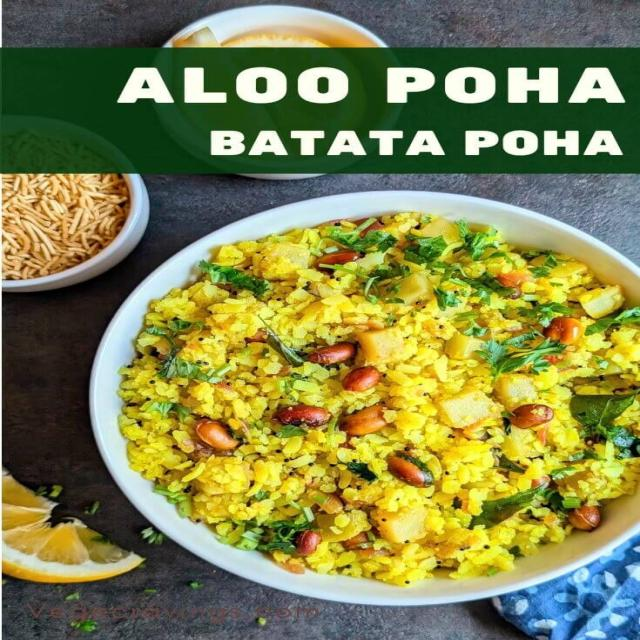POHA: (116, 212, 638, 582)
